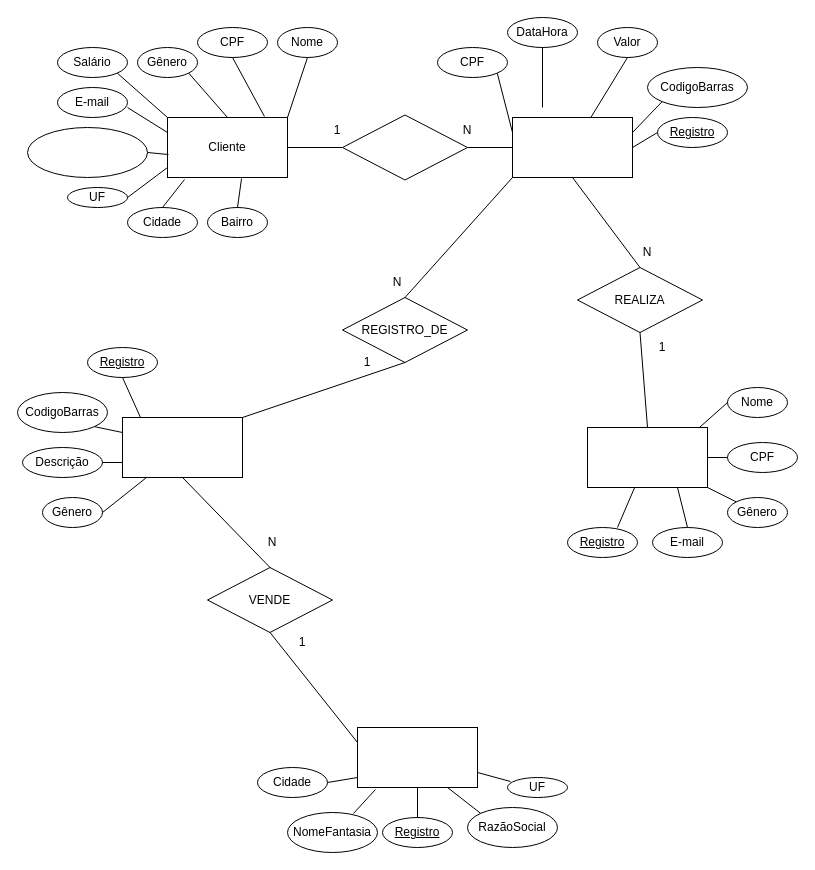
Some shapes in this 815 by 870 pixel diagram are drawn without their labels. The centre of each missing label's shape, as x and y in pixels:
"DiaMesAniversario" goes at [87,152].
"EFETUA" goes at [405,147].
"Fornecedor" goes at [417,757].
"Produto" goes at [182,447].
"Venda" goes at [572,147].
"Vendedor" goes at [647,457].
